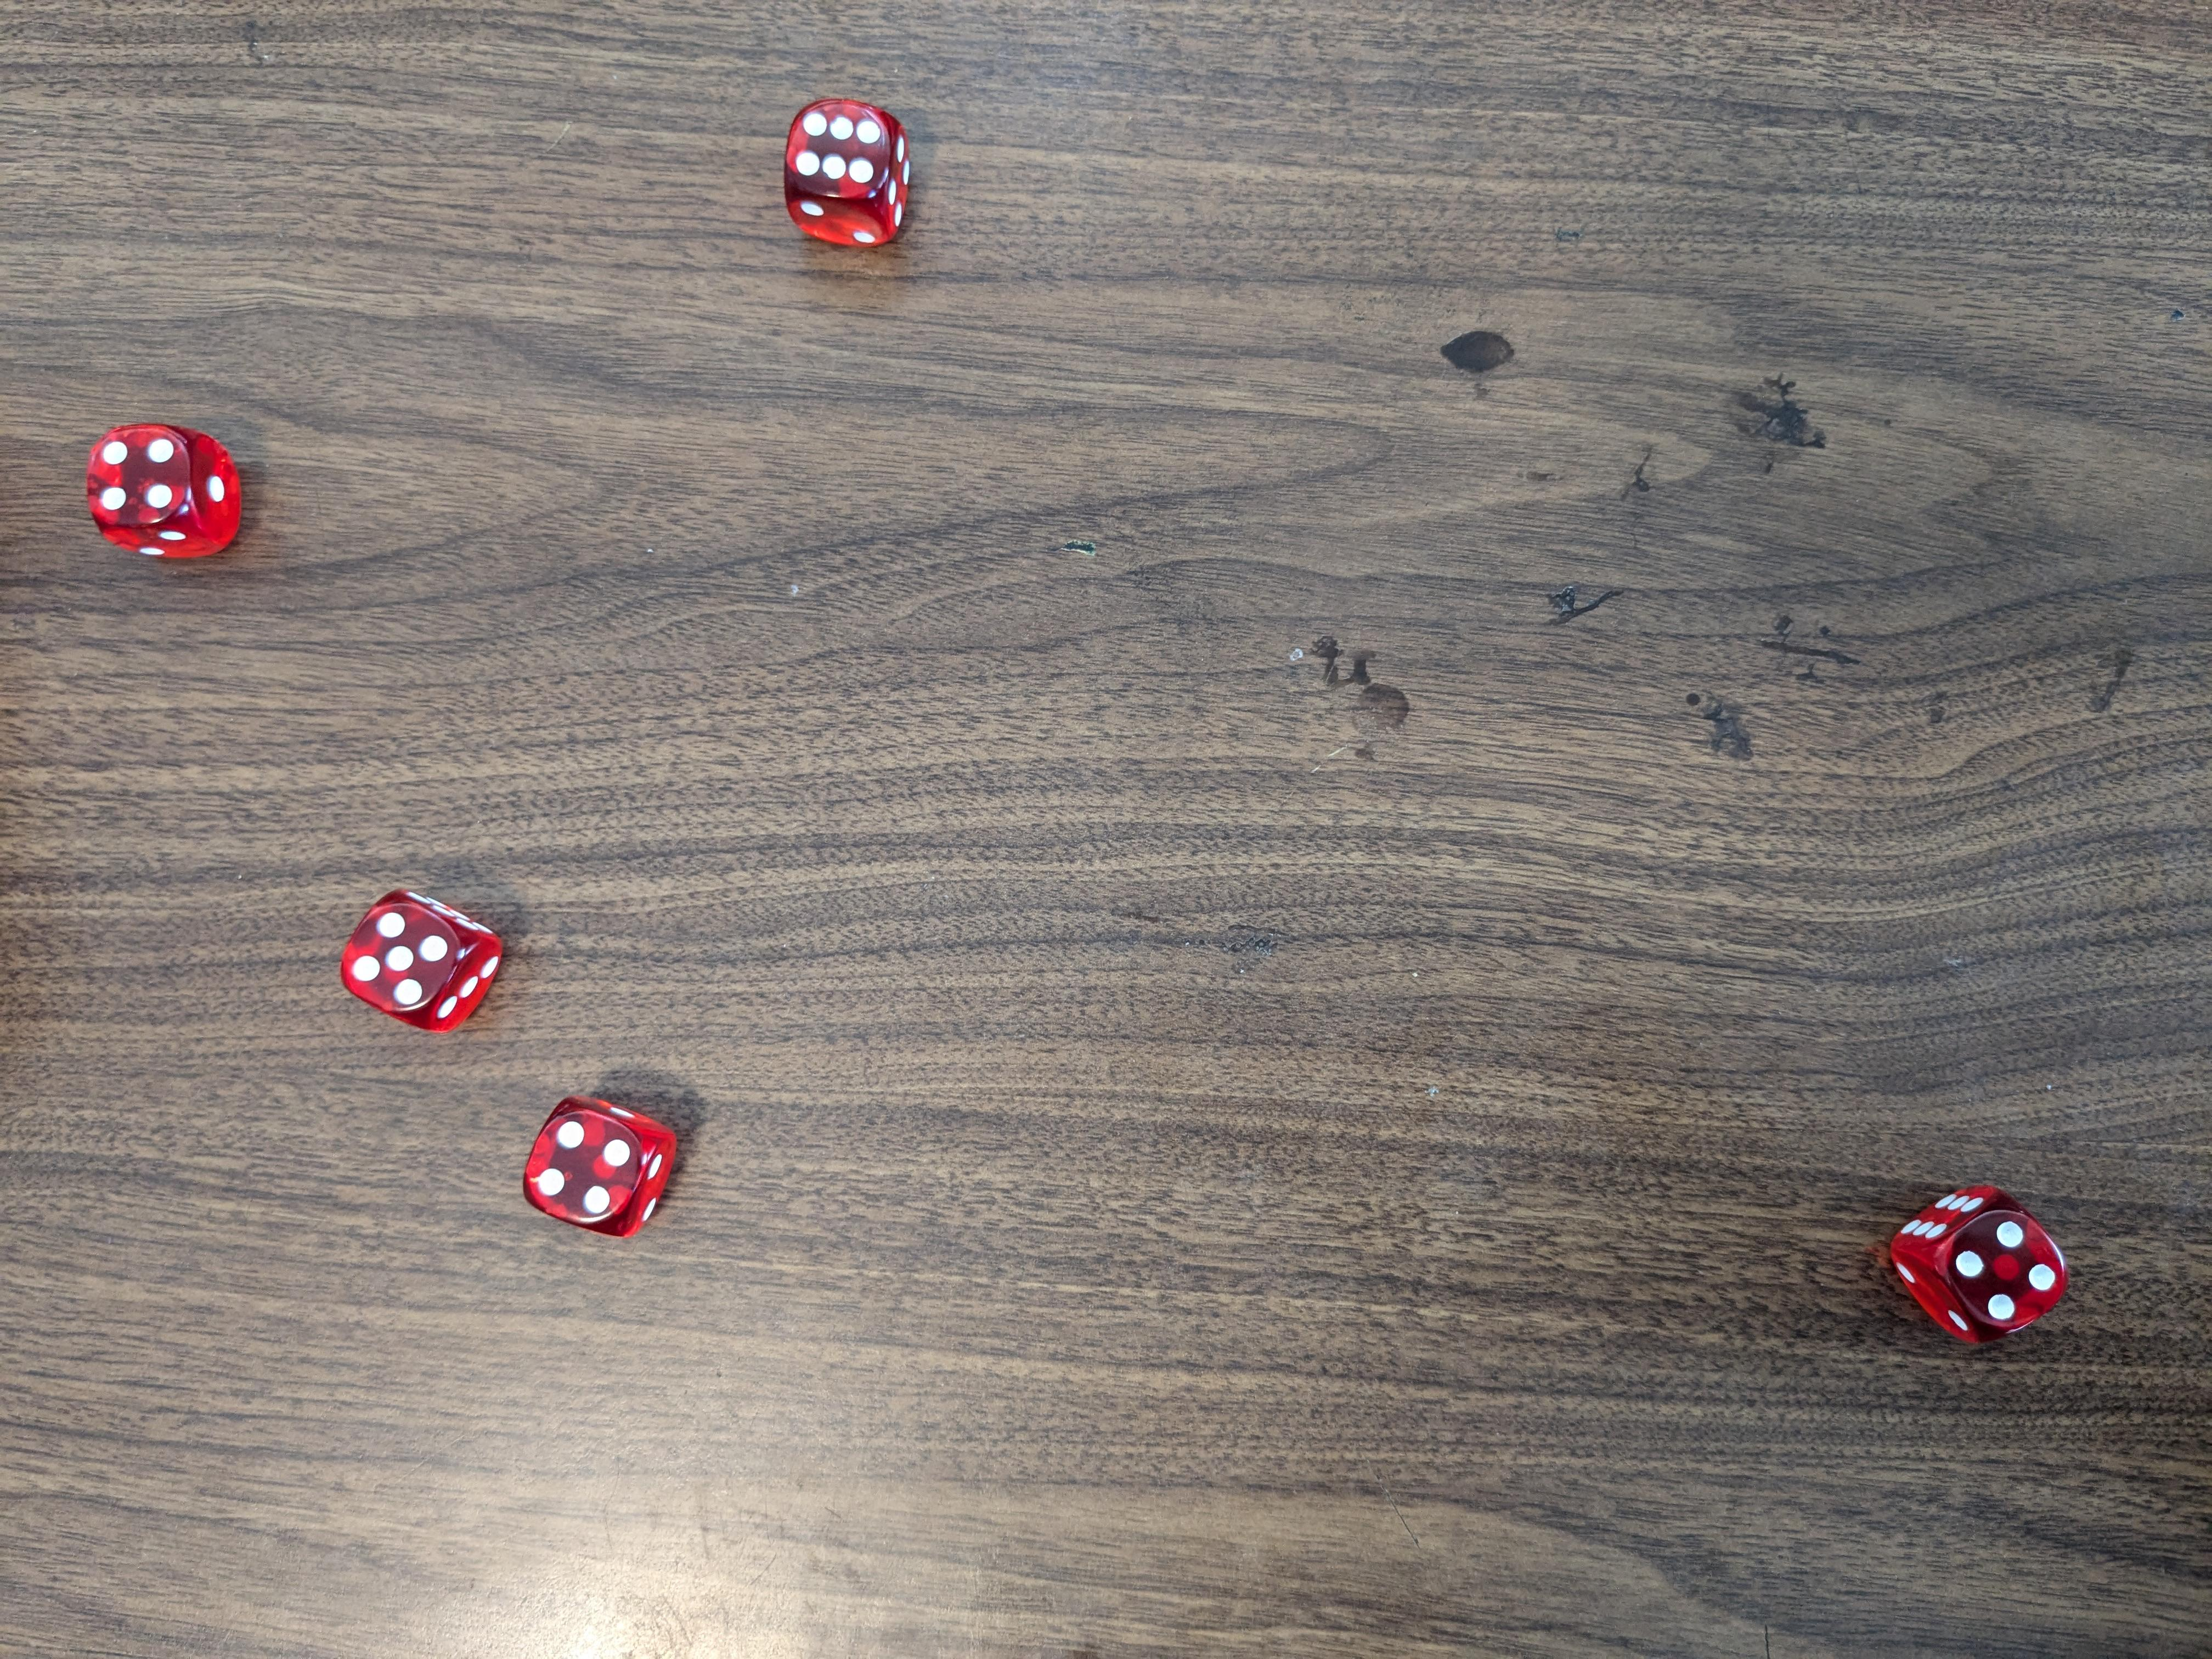five: (334, 887, 512, 1035)
four: (1885, 1175, 2073, 1356), (524, 1087, 678, 1239), (85, 423, 240, 558)
six: (784, 92, 916, 246)
